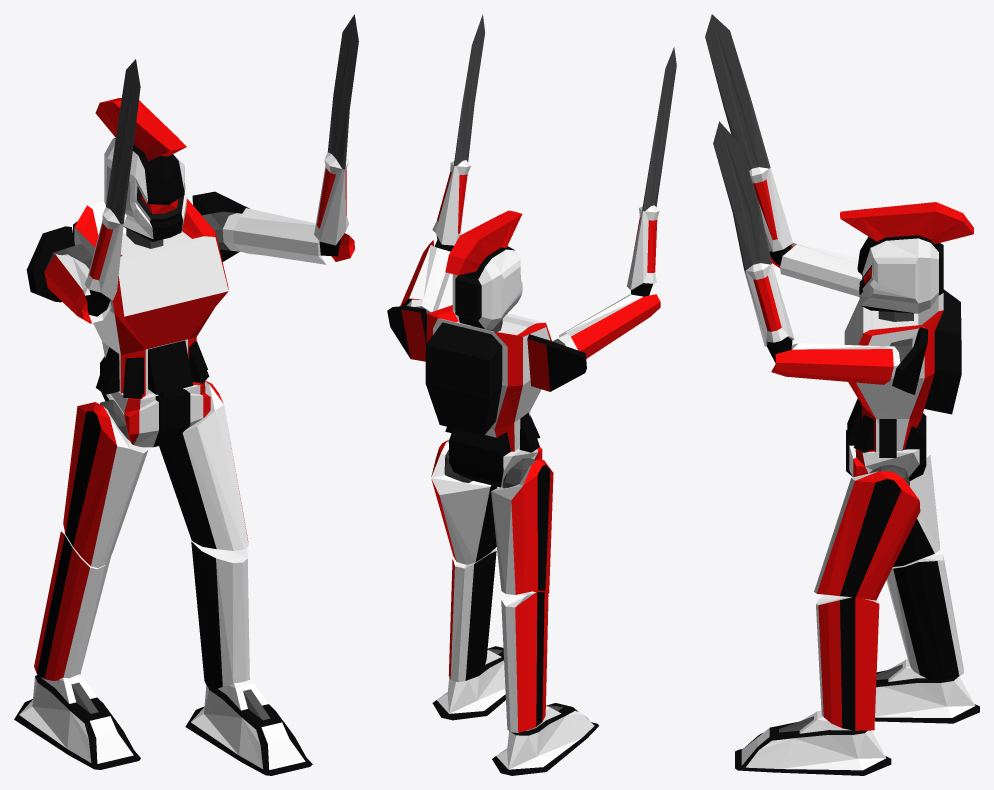
File: robots_000010.obj
The picture shows the model from 3 angles, left to right: view 1: azimuth 30°, elevation 25°; view 2: azimuth 150°, elevation 25°; view 3: azimuth 270°, elevation 25°; orthographic projection. The views are drawn at different scales.
Parts seen in each view (by area): view 1: Chest_plate_Cube.004, R_Forearm.002_Cube.033, R_Thigh_Cube.005, R_Thigh.002_Cube.027, R_Forearm.001_Cube.028, Head_gladiator_Cube.024, R_Shin.002_Cube.029, R_Foot_Cube, R_Foot.002_Cube.035, R_Shin_Cube.007, Pelvis_Cube.006, R_Arm.002_Cube.032 (+1 smaller); view 2: Chest_plate_Cube.004, R_Forearm.001_Cube.028, Head_gladiator_Cube.024, R_Thigh_Cube.005, R_Shin_Cube.007, R_Forearm.002_Cube.033, R_Shin.002_Cube.029, R_Thigh.002_Cube.027, R_Foot_Cube, Pelvis_Cube.006, R_Foot.002_Cube.035, R_Arm.002_Cube.032 (+2 smaller); view 3: Chest_plate_Cube.004, R_Forearm.002_Cube.033, Head_gladiator_Cube.024, R_Forearm.001_Cube.028, R_Thigh.002_Cube.027, R_Shin.002_Cube.029, R_Shin_Cube.007, R_Foot.002_Cube.035, R_Foot_Cube, R_Thigh_Cube.005, Pelvis_Cube.006, R_Arm.003_Cube.034.
Part boxes in pixels (x1,y1,x2,y2): Chest_plate_Cube.004: (73, 199, 228, 398); R_Forearm.002_Cube.033: (233, 14, 358, 264); R_Thigh_Cube.005: (63, 402, 148, 567); R_Thigh.002_Cube.027: (159, 381, 248, 550); R_Forearm.001_Cube.028: (44, 59, 140, 323); Head_gladiator_Cube.024: (95, 98, 187, 241); R_Shin.002_Cube.029: (191, 539, 249, 689); R_Foot_Cube: (14, 674, 140, 769); R_Foot.002_Cube.035: (185, 680, 312, 775); R_Shin_Cube.007: (34, 531, 111, 680); Pelvis_Cube.006: (100, 356, 210, 447); R_Arm.002_Cube.032: (26, 226, 92, 302); Chest_plate_Cube.004: (425, 305, 551, 452); R_Forearm.001_Cube.028: (559, 47, 676, 358); Head_gladiator_Cube.024: (445, 210, 522, 329); R_Thigh_Cube.005: (491, 459, 553, 594); R_Shin_Cube.007: (501, 591, 548, 732); R_Forearm.002_Cube.033: (400, 14, 485, 310); R_Shin.002_Cube.029: (448, 548, 496, 682); R_Thigh.002_Cube.027: (431, 440, 497, 564); R_Foot_Cube: (492, 703, 598, 775); Pelvis_Cube.006: (448, 428, 542, 487); R_Foot.002_Cube.035: (432, 646, 505, 720); R_Arm.002_Cube.032: (527, 334, 586, 391); Chest_plate_Cube.004: (844, 289, 961, 457); R_Forearm.002_Cube.033: (713, 121, 893, 384); Head_gladiator_Cube.024: (840, 202, 973, 313); R_Forearm.001_Cube.028: (705, 14, 862, 296); R_Thigh.002_Cube.027: (814, 471, 920, 600); R_Shin.002_Cube.029: (816, 594, 879, 730); R_Shin_Cube.007: (886, 550, 963, 680); R_Foot.002_Cube.035: (735, 711, 891, 775); R_Foot_Cube: (875, 659, 979, 723); R_Thigh_Cube.005: (893, 446, 939, 566); Pelvis_Cube.006: (846, 413, 926, 480); R_Arm.003_Cube.034: (884, 327, 927, 394).
Size of the model in its own units: 1.51 by 4.02 by 1.48.
